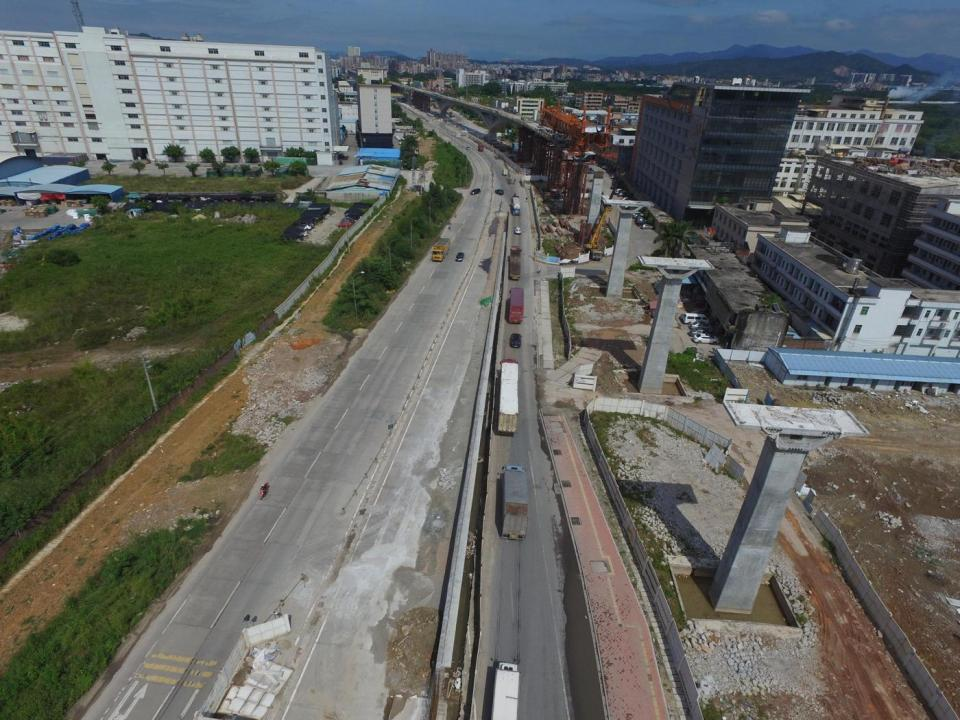car: (693, 334, 721, 345), (690, 330, 713, 338), (510, 333, 522, 348), (692, 322, 713, 330), (341, 219, 356, 226), (294, 228, 307, 236), (338, 222, 353, 228), (637, 219, 651, 225), (288, 236, 300, 243), (456, 252, 464, 262), (634, 214, 645, 221), (292, 233, 303, 240), (298, 200, 313, 205), (641, 224, 653, 230), (633, 212, 645, 218), (413, 185, 423, 192), (304, 220, 314, 227), (616, 188, 627, 194), (308, 214, 319, 220), (300, 224, 310, 230), (635, 216, 646, 221), (471, 188, 480, 194), (494, 188, 503, 194), (622, 197, 631, 203), (617, 192, 627, 197), (514, 228, 521, 234), (602, 165, 608, 168), (466, 147, 470, 150), (417, 166, 420, 170)
truck: (498, 465, 530, 542), (490, 658, 523, 718), (495, 360, 518, 435), (507, 286, 524, 324), (433, 237, 450, 264), (510, 245, 520, 280), (511, 196, 520, 216), (502, 169, 508, 176), (478, 144, 483, 152)
van: (682, 313, 712, 325)
